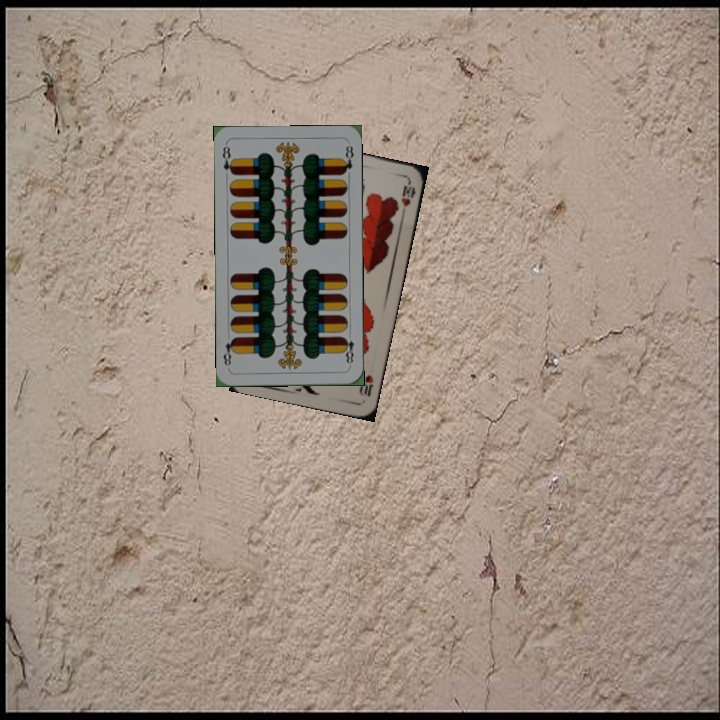E8: (218, 142, 237, 178), (339, 333, 356, 369)
H10: (355, 371, 376, 399)
